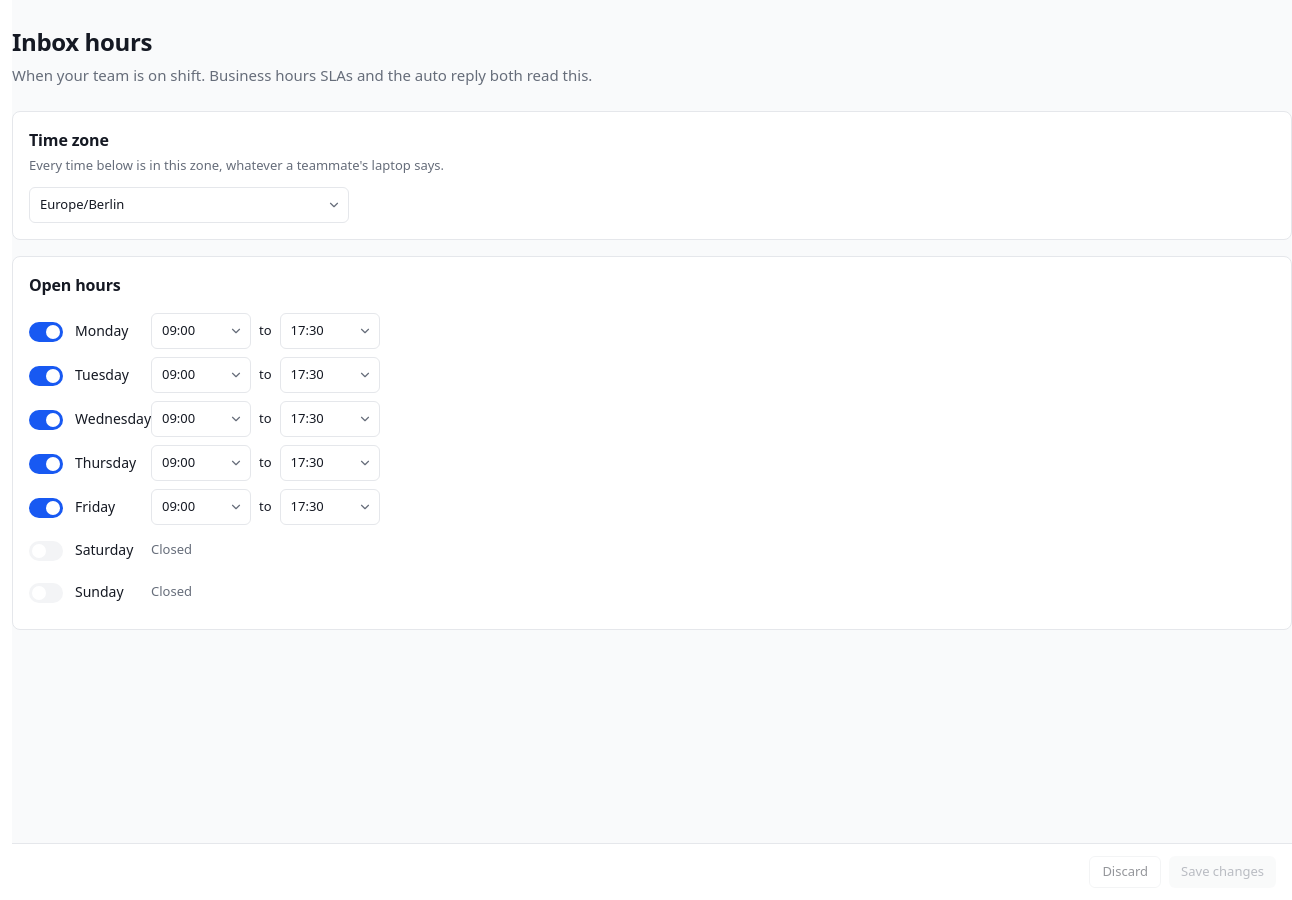
inbox hours › warns when no day is open, because a business hours SLA could never tick
Expected: the heading "Time zone" is shown, [29, 128, 109, 150]
Click the switch named "Monday" at (46, 332), box [29, 322, 63, 342]
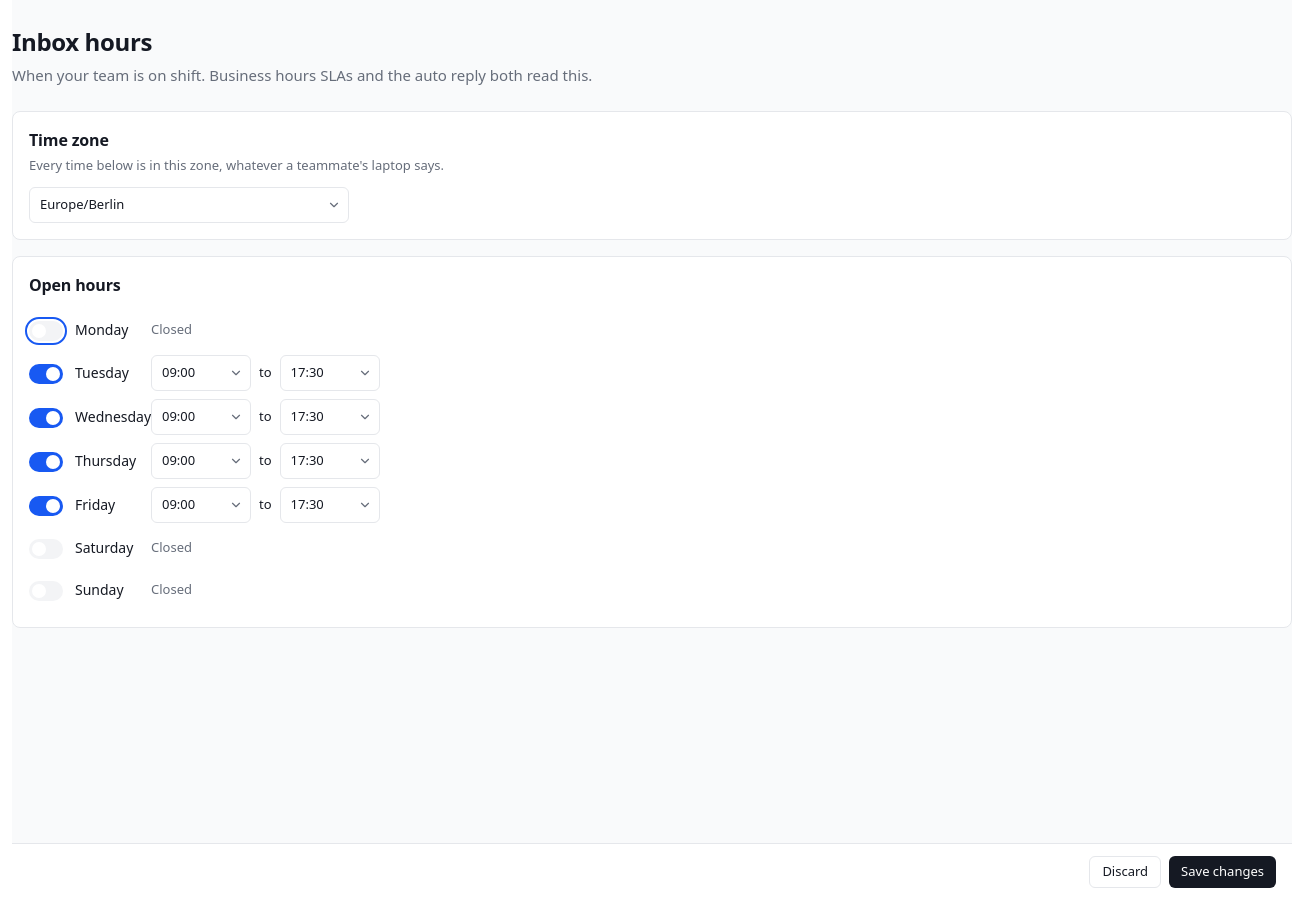
Click the switch named "Tuesday" at (46, 374), box [29, 364, 63, 384]
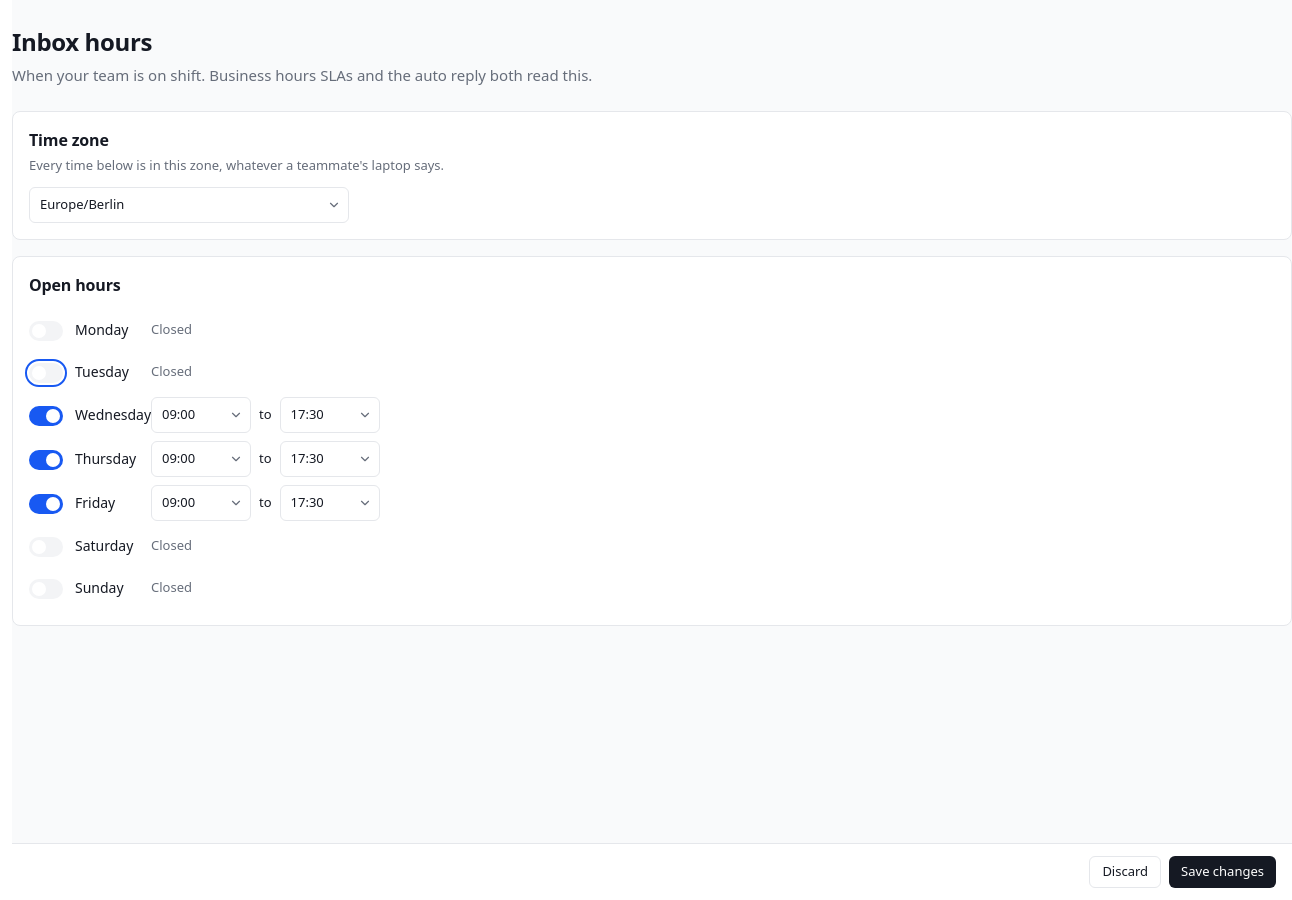
Click the switch named "Wednesday" at (46, 416), box [29, 406, 63, 426]
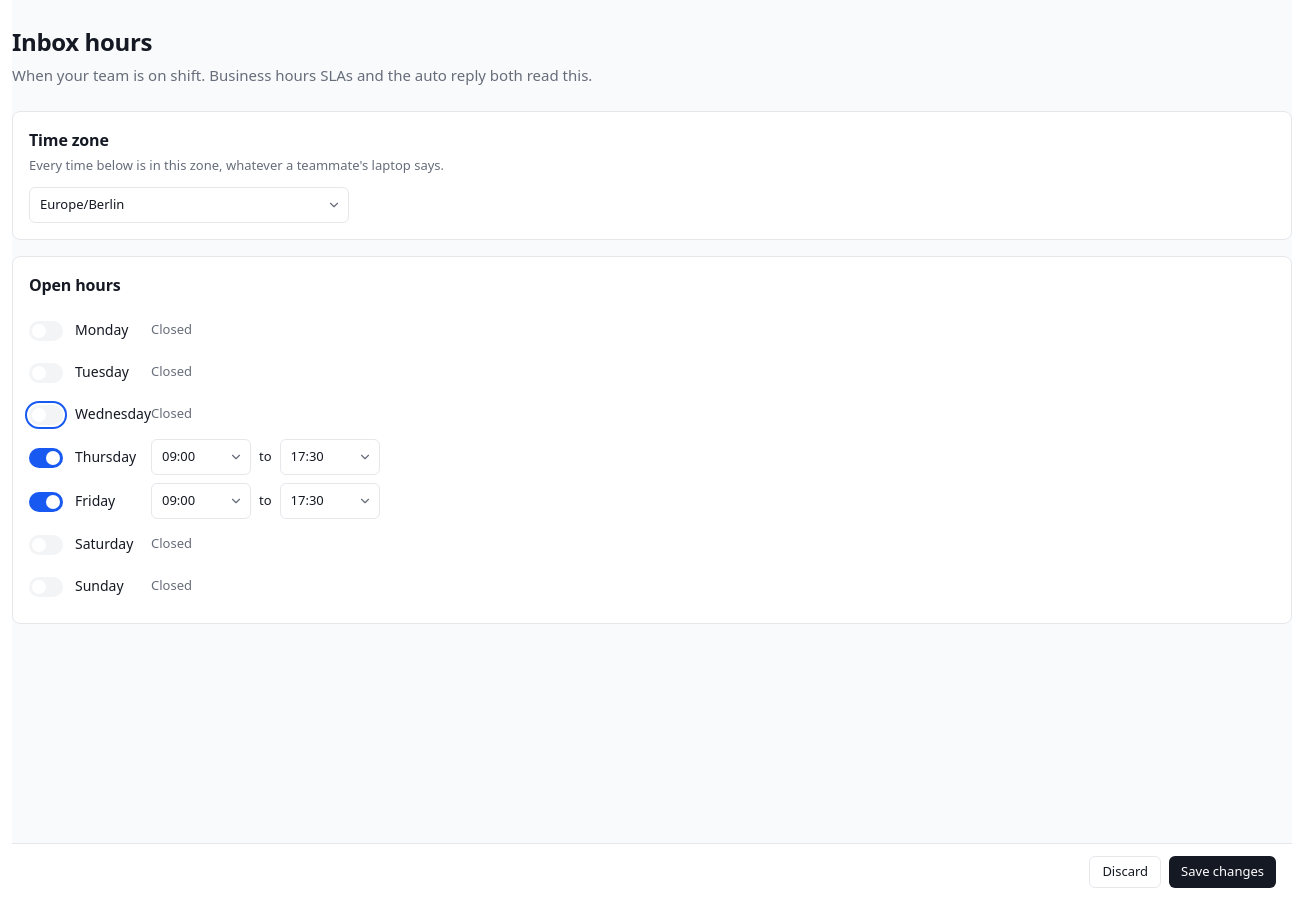
Click the switch named "Thursday" at (46, 458), box [29, 448, 63, 468]
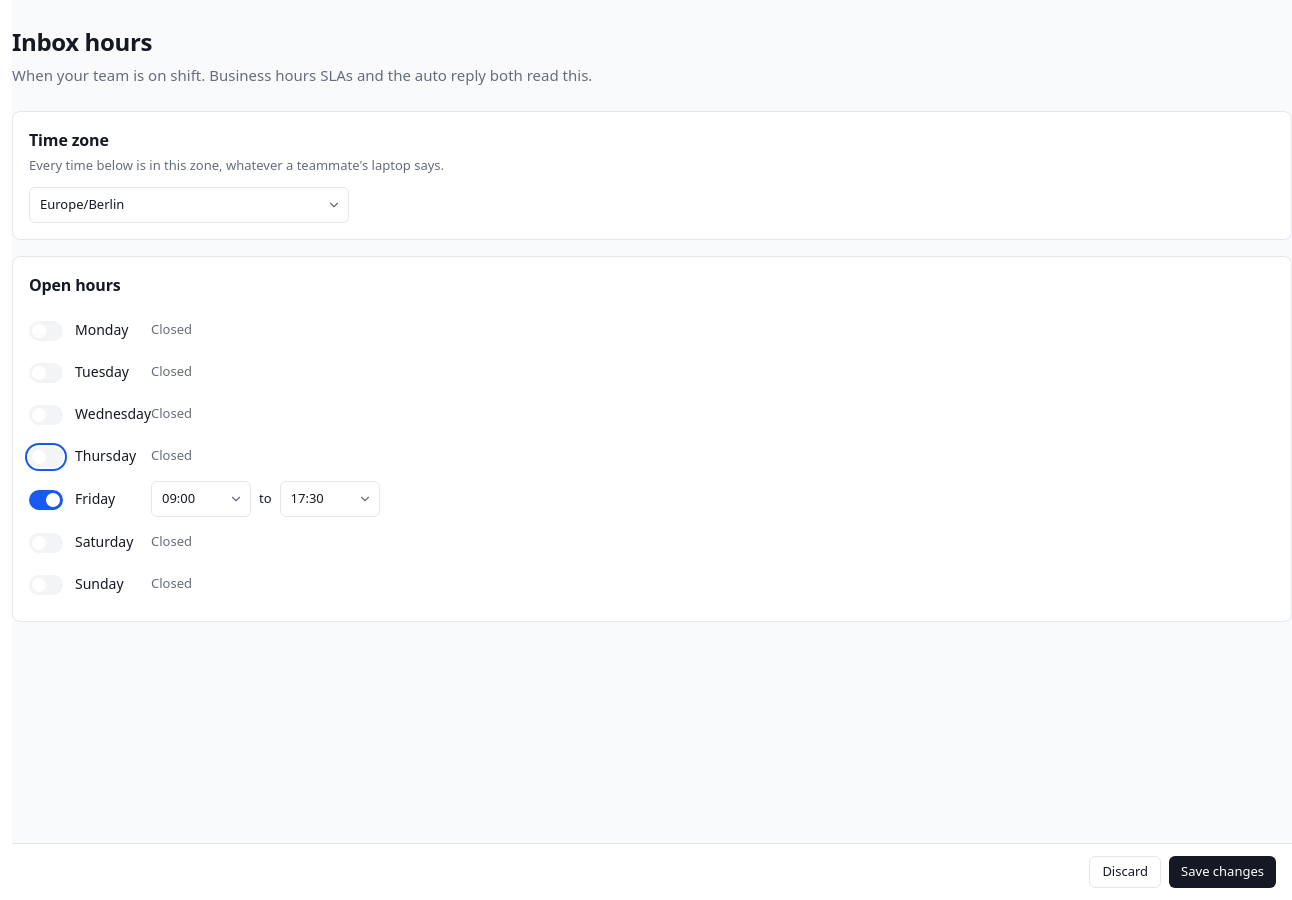
Click the switch named "Friday" at (46, 500), box [29, 490, 63, 510]
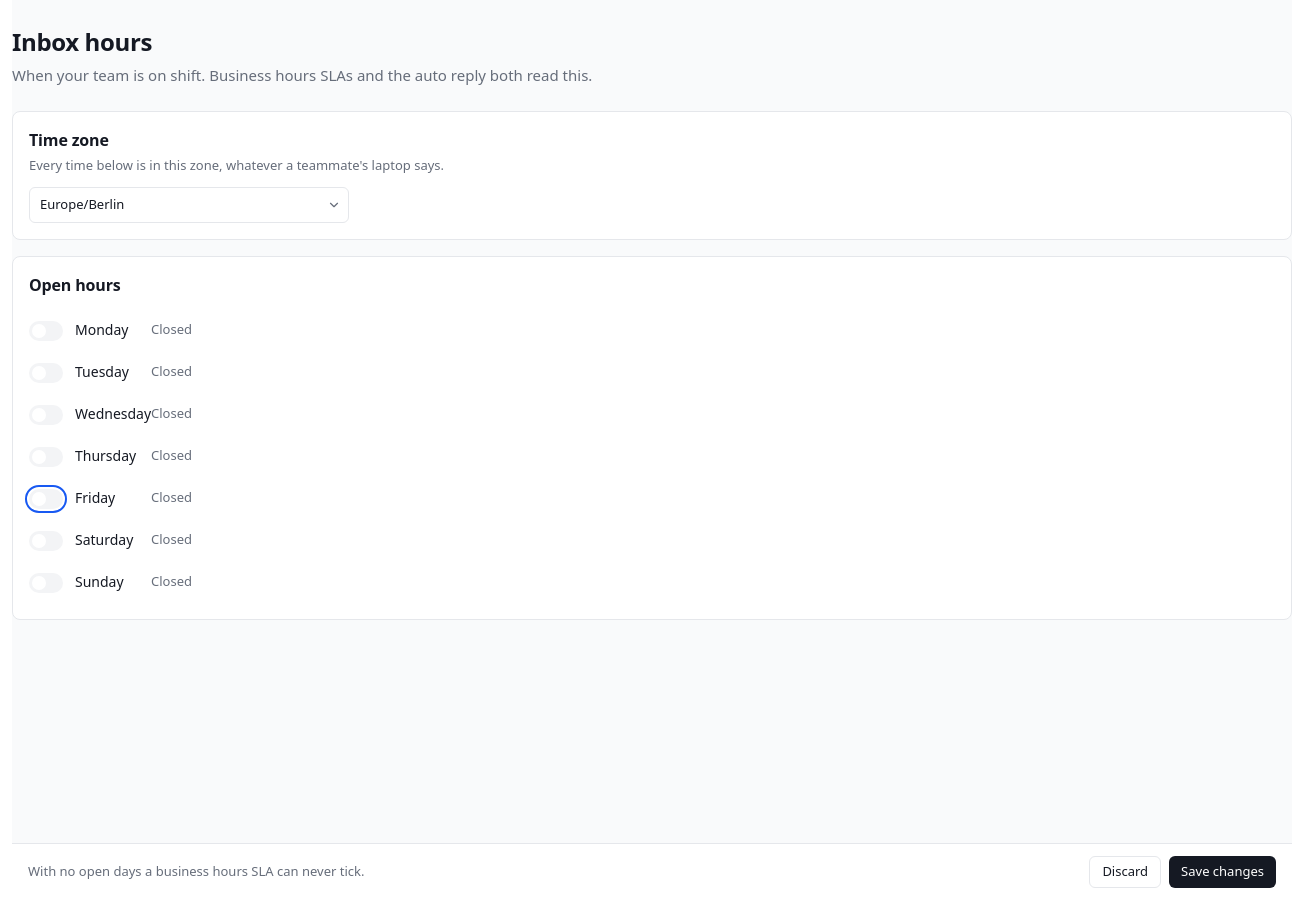
Now the text "With no open days a business hours SLA can never tick." is shown, box [28, 862, 364, 882]
